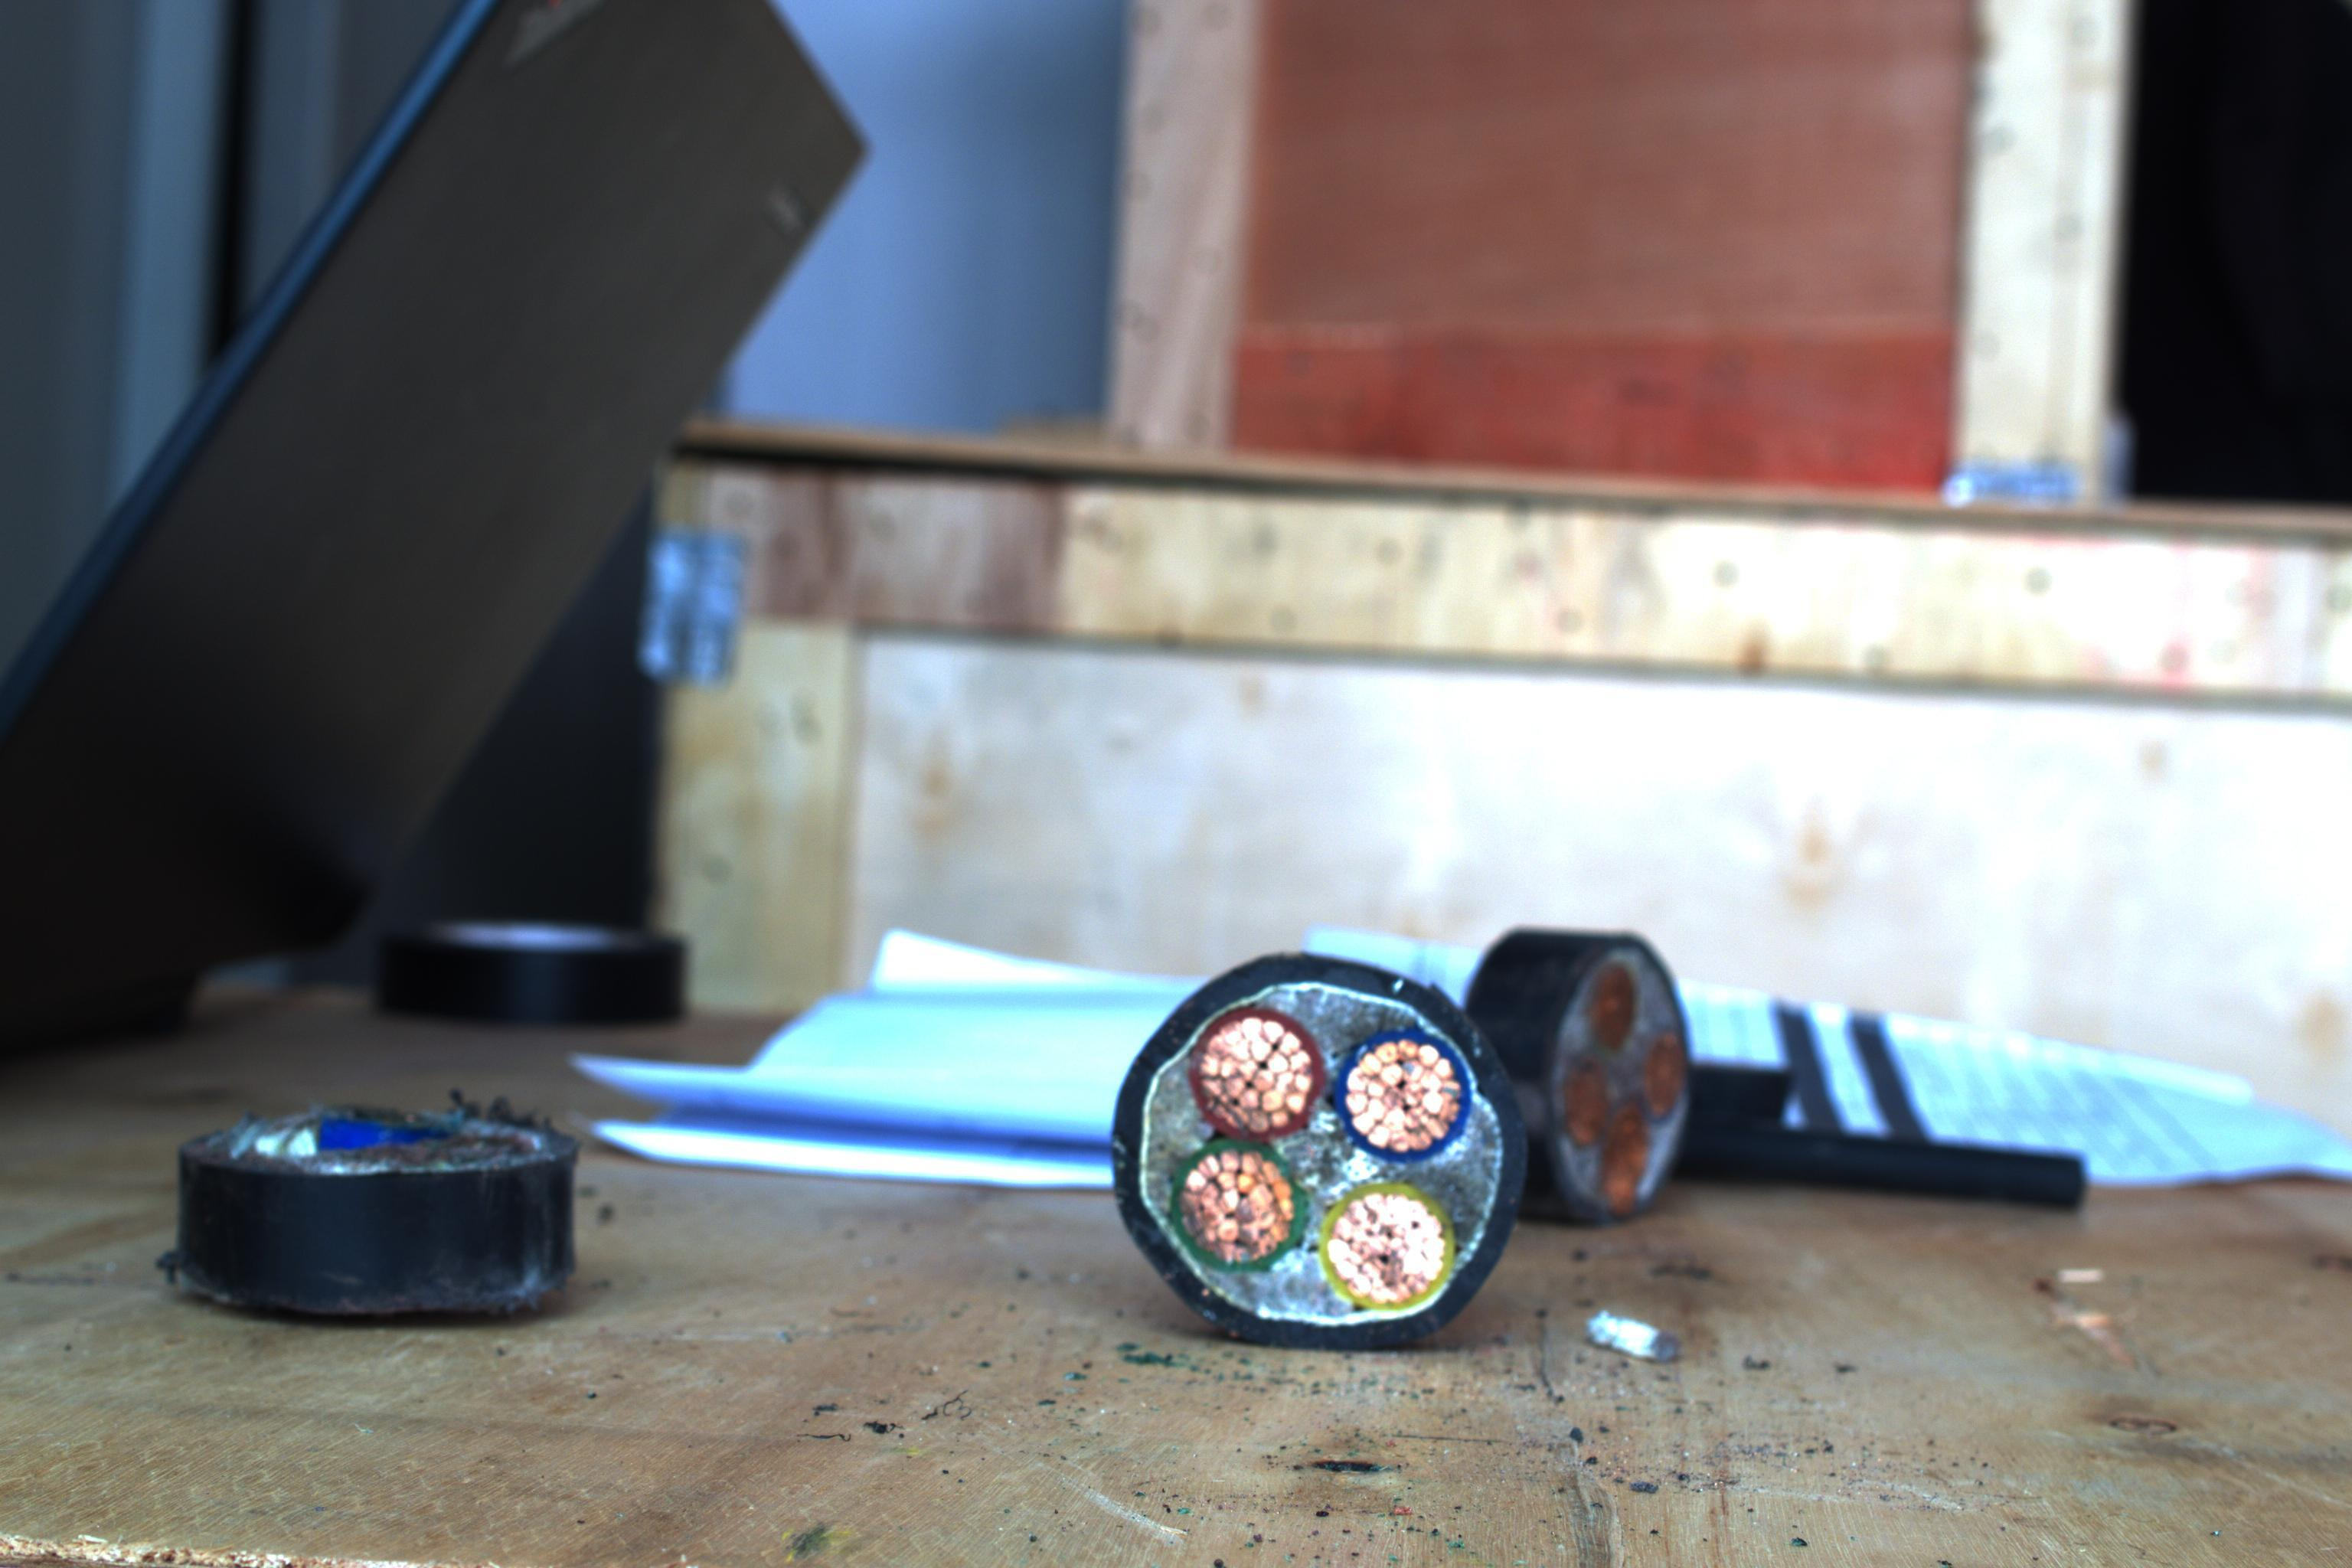YJV_0.6_1kV_4x120: (1080, 948, 1554, 1347)
